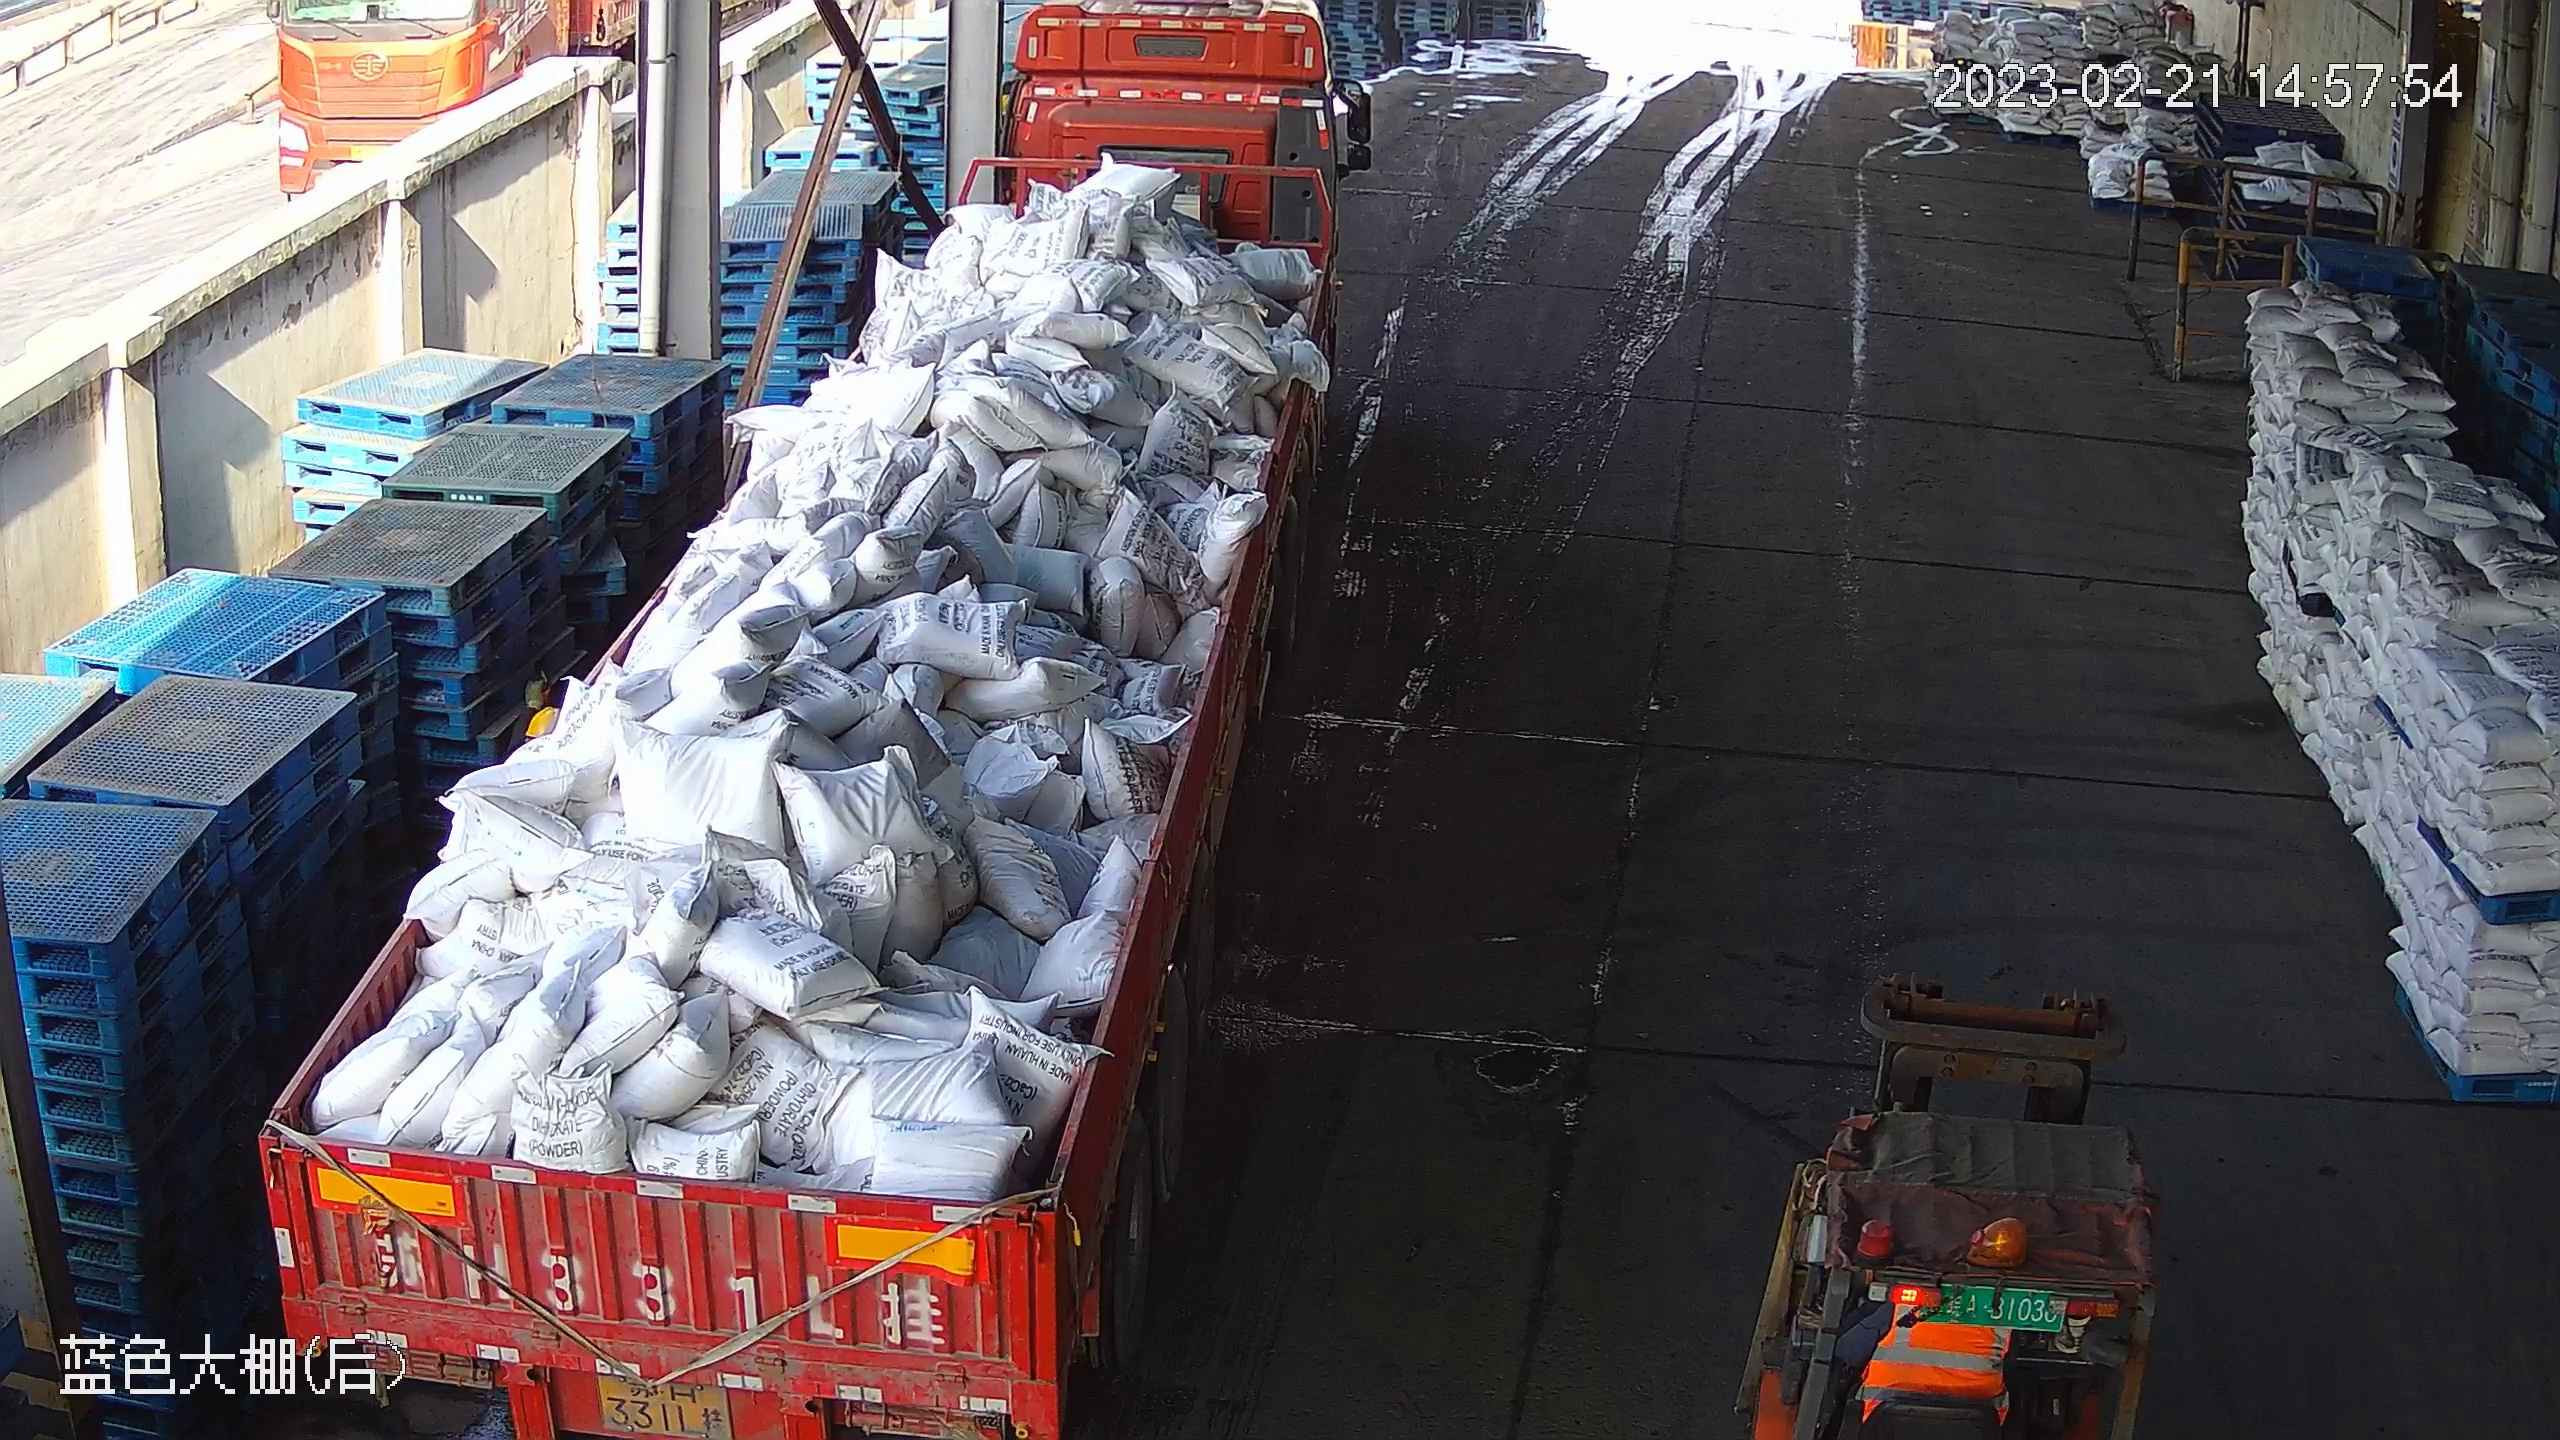truck: (253, 2, 1370, 1433)
